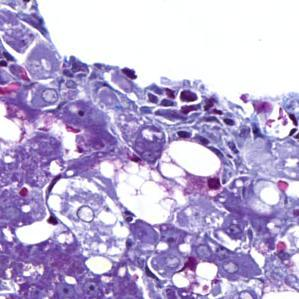ballooning: (46, 173, 132, 278), (109, 158, 188, 229)
